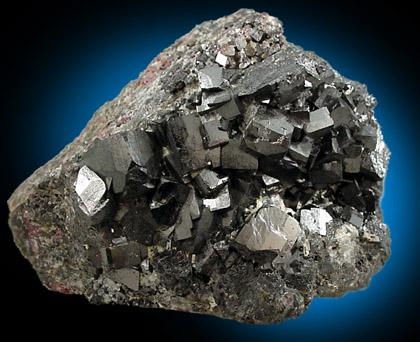magnetite: (80, 49, 385, 291)
